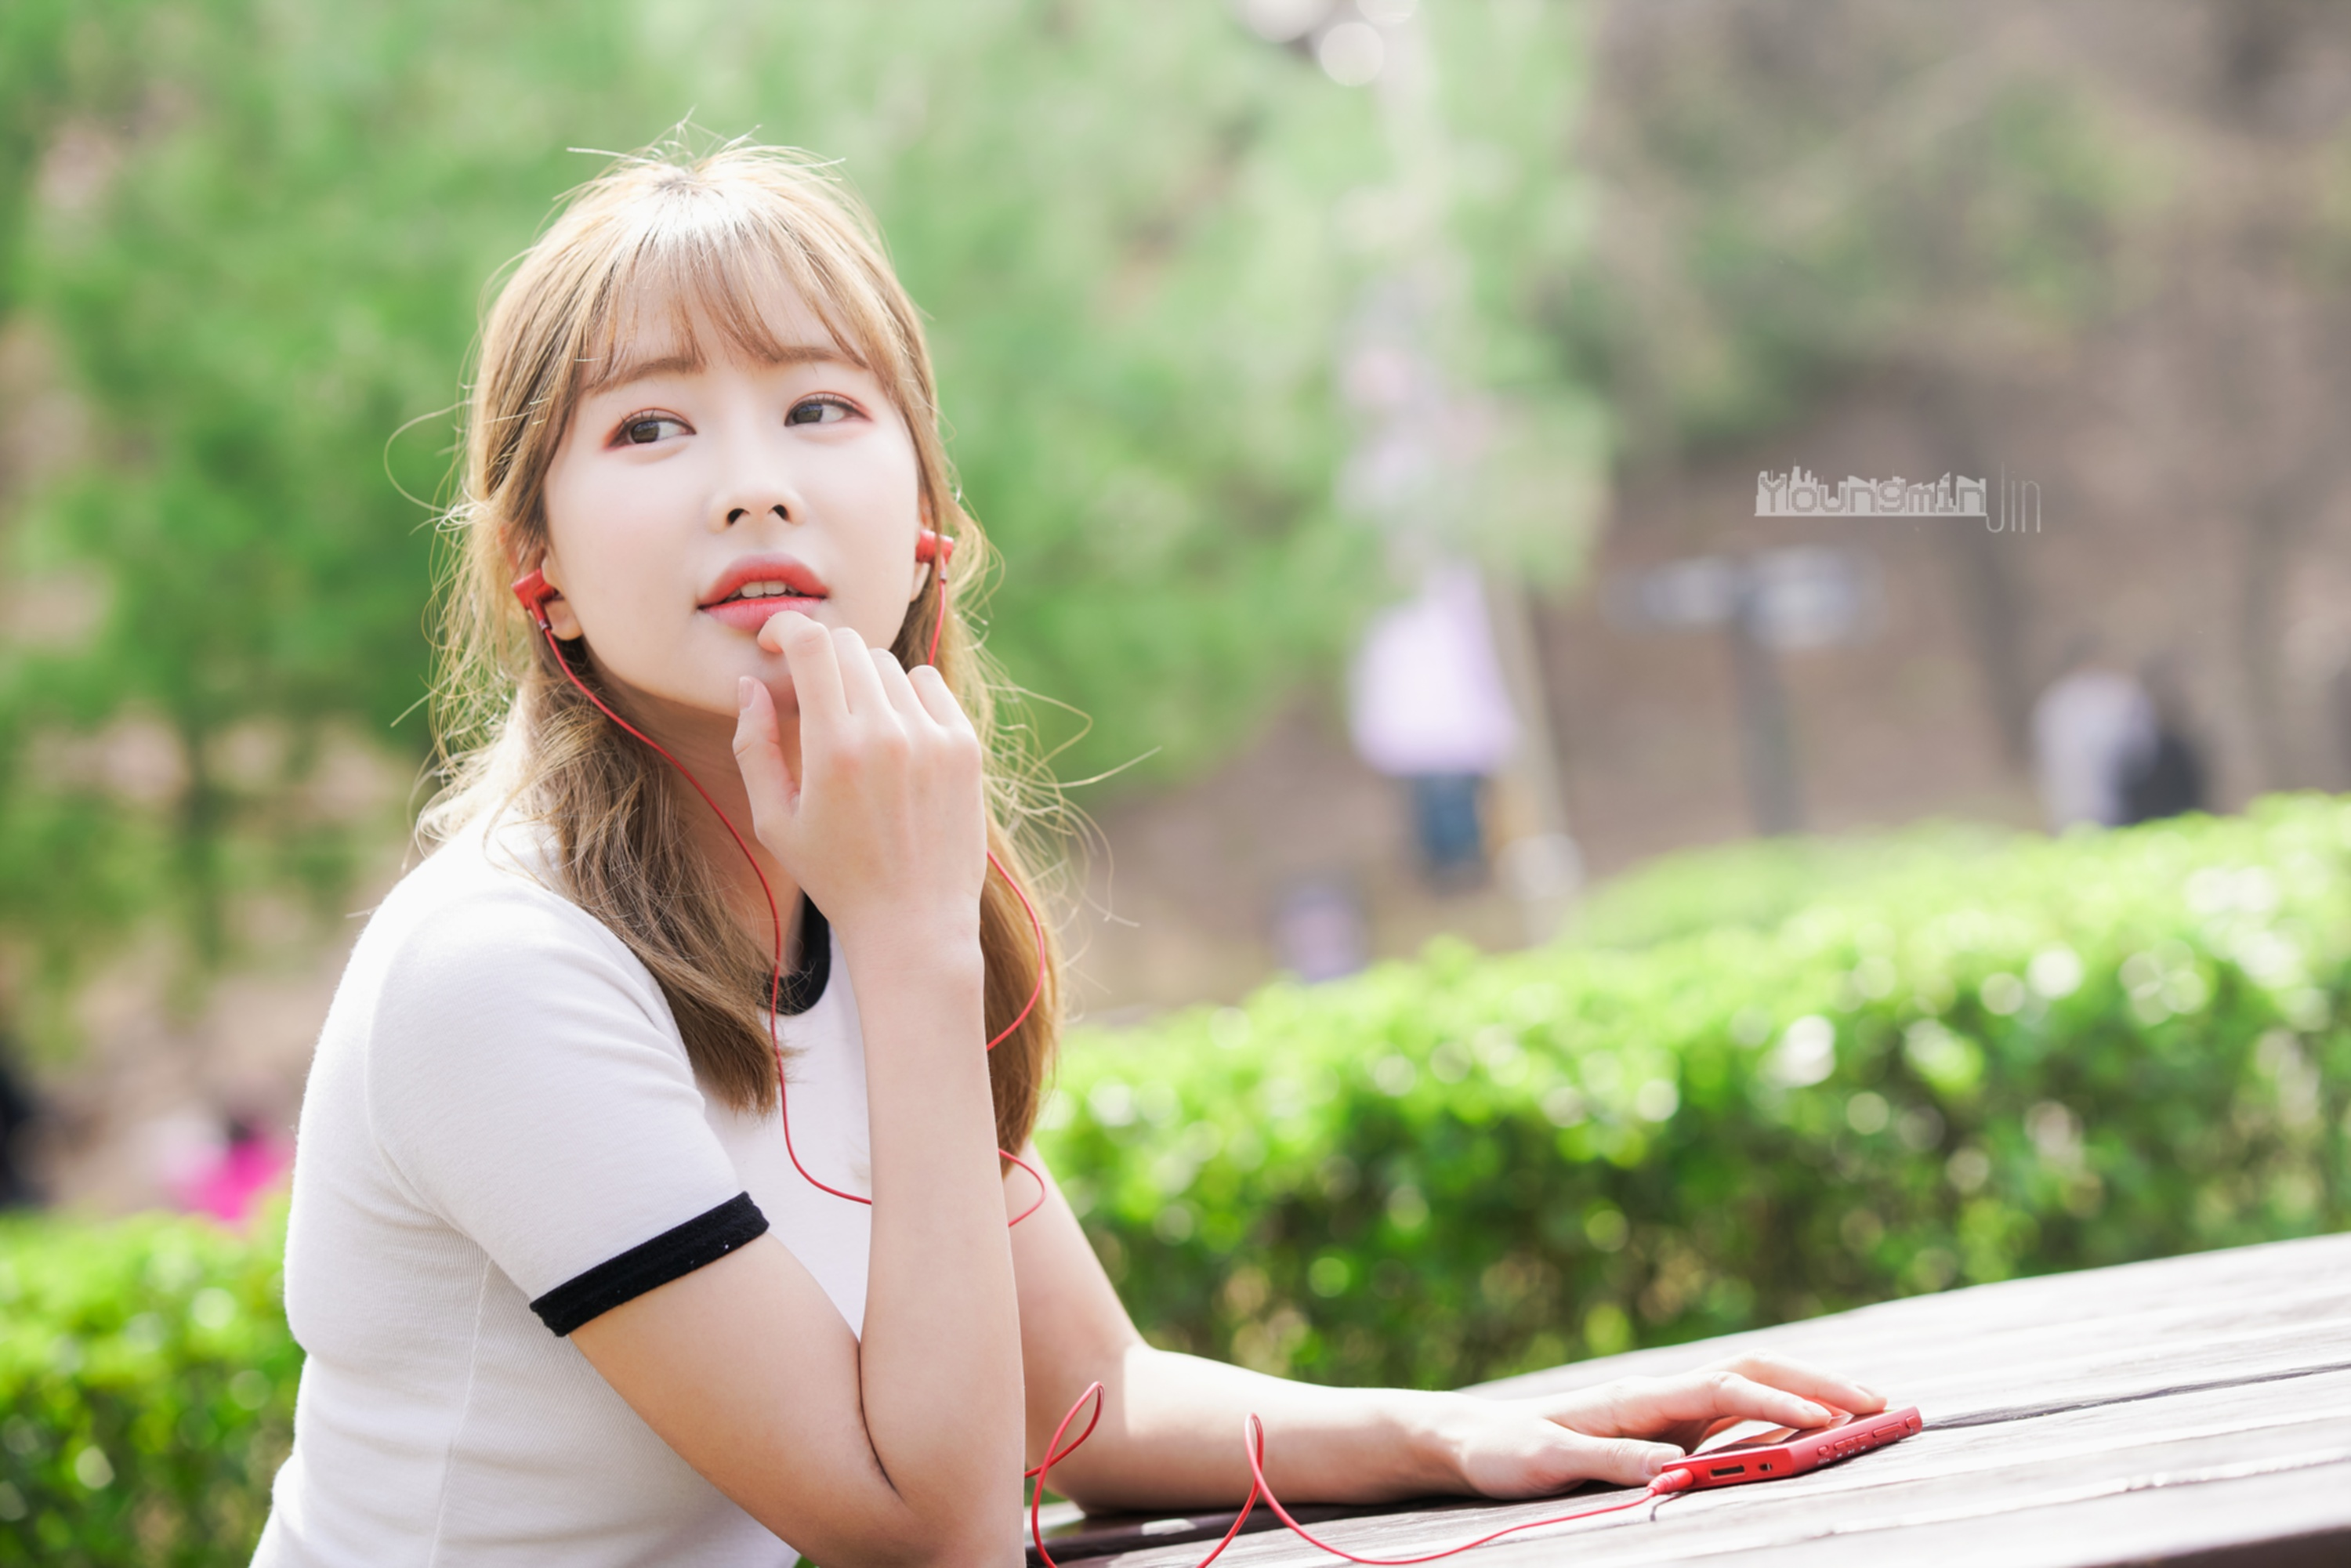earphone: (497, 520, 586, 640), (911, 490, 955, 604)
